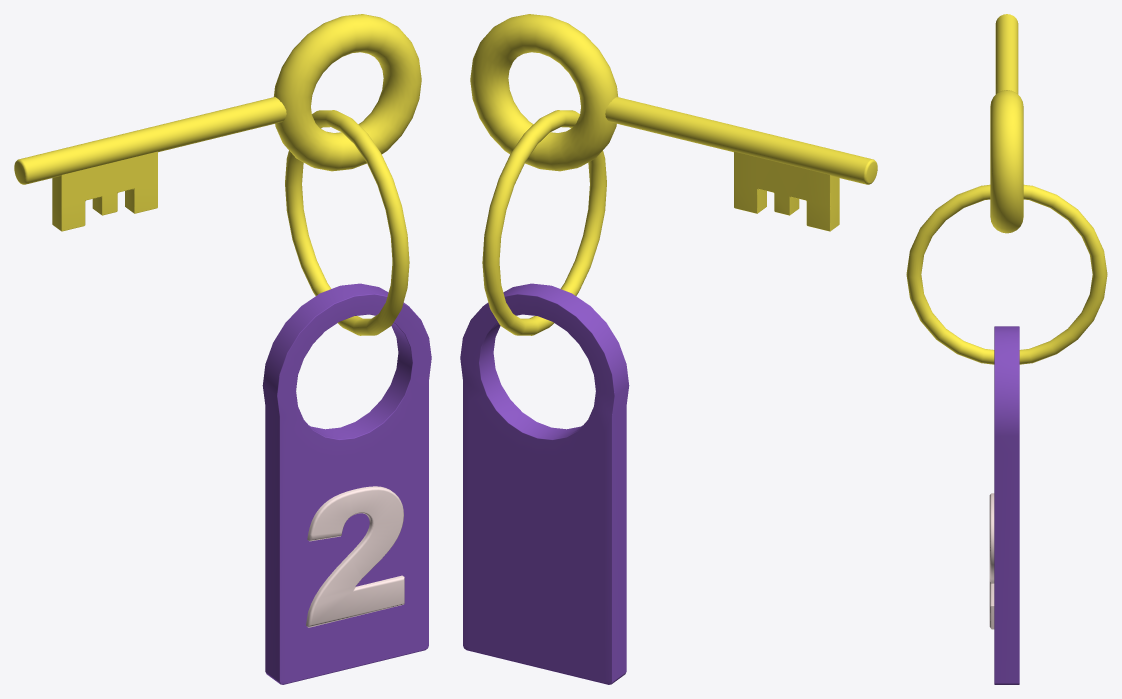
The model's file is Public_7_Key_Number_2.glb.
3 views of the same model, side by side, from view 1: azimuth 30°, elevation 25°; view 2: azimuth 150°, elevation 25°; view 3: azimuth 270°, elevation 25° (orthographic). The views are drawn at different scales.
Visible parts, largest first — view 1: Public_7_Key_Number_2; view 2: Public_7_Key_Number_2; view 3: Public_7_Key_Number_2.
Part boxes in pixels (x1=…): Public_7_Key_Number_2: x1=14, y1=14, x2=431, y2=684; Public_7_Key_Number_2: x1=460, y1=14, x2=877, y2=684; Public_7_Key_Number_2: x1=906, y1=14, x2=1107, y2=684.
Bounding box in the file's own units: 1.61 × 2.45 × 0.8011.
1 material, 1 textured.
